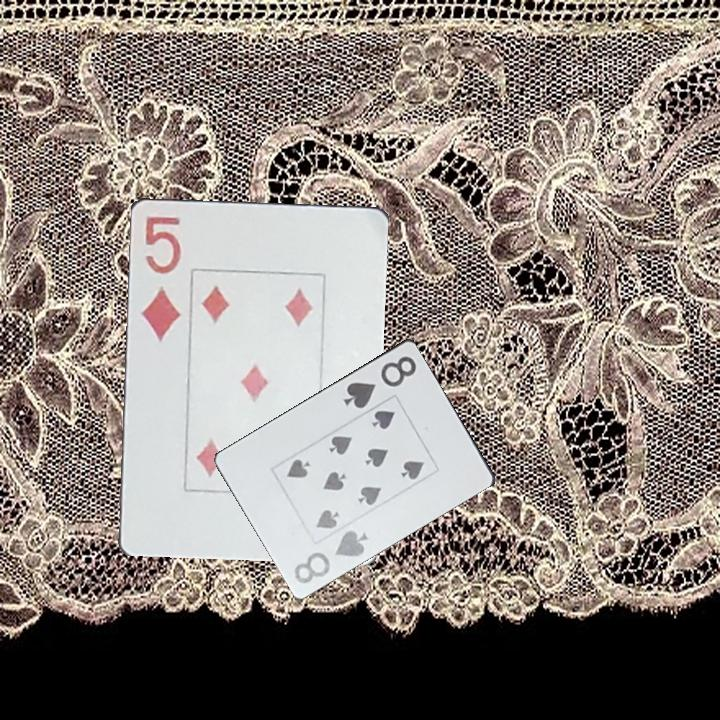5d: (137, 212, 184, 343)
8s: (290, 526, 371, 587), (340, 352, 420, 411)
